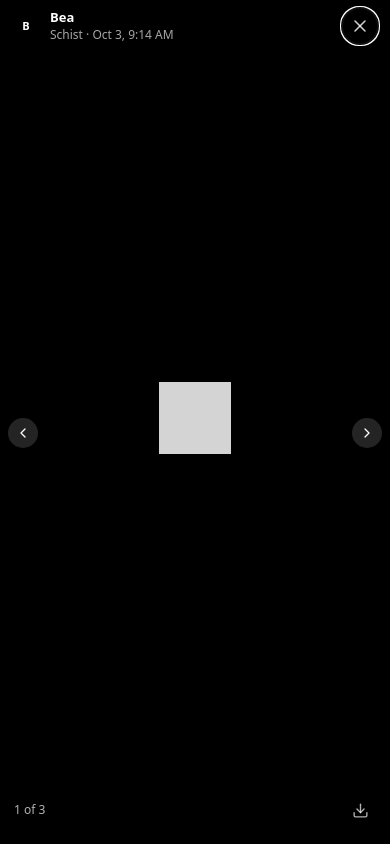
Test case: MediaViewer › a horizontal swipe of more than 50px moves; a short one does not
Press the mouse on the element with test id "viewer-stage" at (195, 418), box x1=8 y1=382 x2=382 y2=454
Expected: the text with test id "viewer-count" reads "1 of 3", x1=14 y1=802 x2=45 y2=818
Press the mouse on the element with test id "viewer-stage" at (195, 418), box x1=8 y1=382 x2=382 y2=454
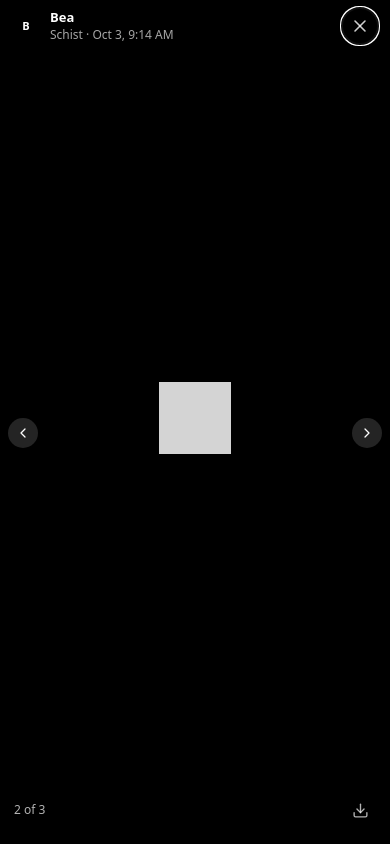
Result: the text with test id "viewer-count" reads "2 of 3" at x1=14 y1=802 x2=45 y2=818
Press the mouse on the element with test id "viewer-stage" at (195, 418), box x1=8 y1=382 x2=382 y2=454
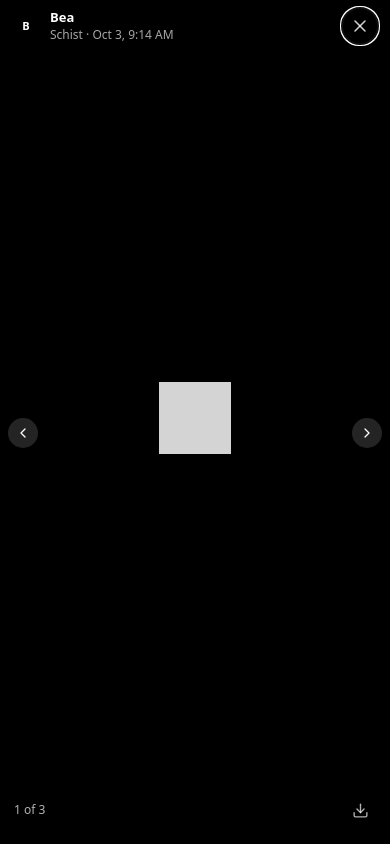
Result: the text with test id "viewer-count" reads "1 of 3" at x1=14 y1=802 x2=45 y2=818
